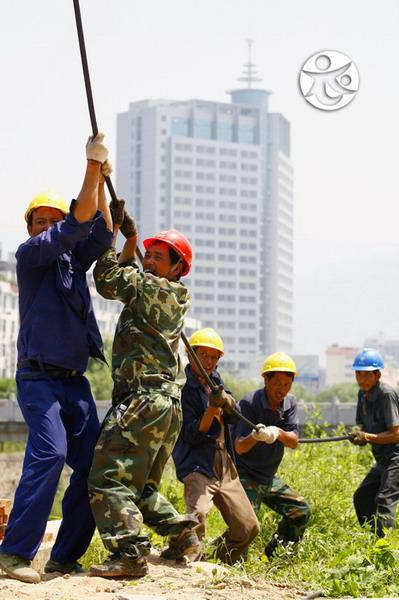helmet: (134, 226, 198, 283), (20, 185, 70, 237), (256, 345, 301, 402), (183, 320, 229, 375), (349, 347, 386, 392)
